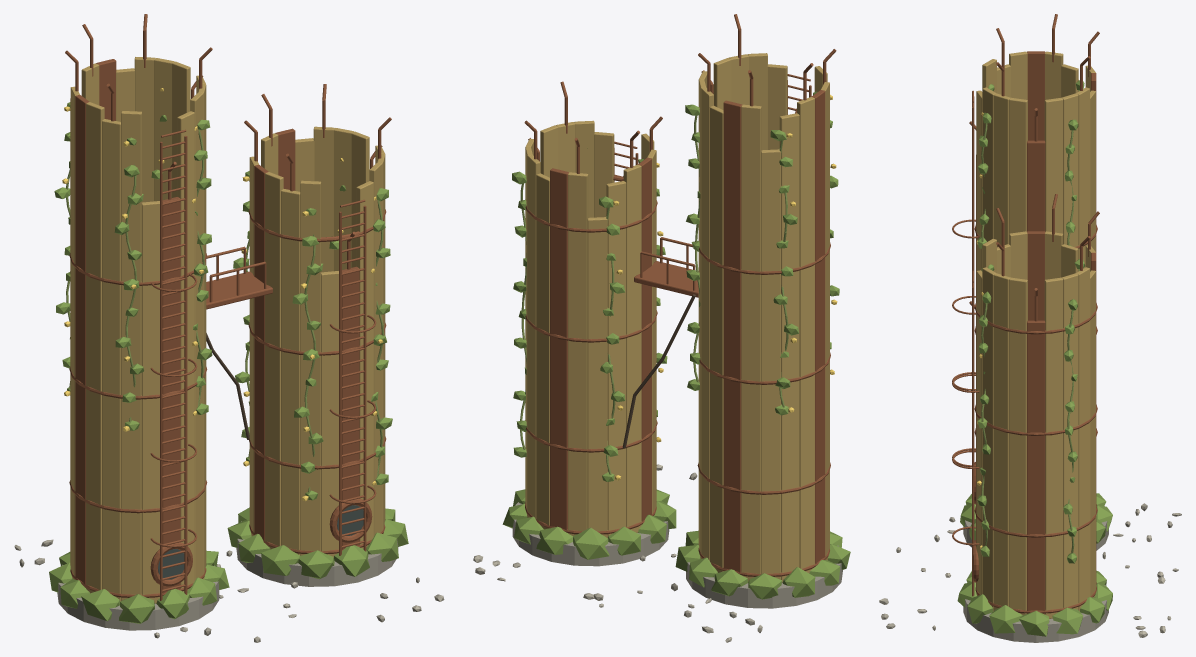
The model's file is Twin_Ruptured_Silos_Golden.glb.
The picture shows the model from 3 angles, left to right: view 1: azimuth 30°, elevation 25°; view 2: azimuth 150°, elevation 25°; view 3: azimuth 270°, elevation 25°; orthographic projection. The views are drawn at different scales.
Visible parts, largest first — view 1: Structure, Growth; view 2: Structure, Growth; view 3: Structure, Growth.
Part boxes in pixels (<box>): Structure: <box>14,14,444,642</box>; Growth: <box>49,88,408,623</box>; Structure: <box>473,14,842,642</box>; Growth: <box>502,91,850,599</box>; Structure: <box>879,14,1181,642</box>; Growth: <box>957,80,1112,636</box>.
Size of the model in its own units: 12.3 by 19.54 by 10.8.
